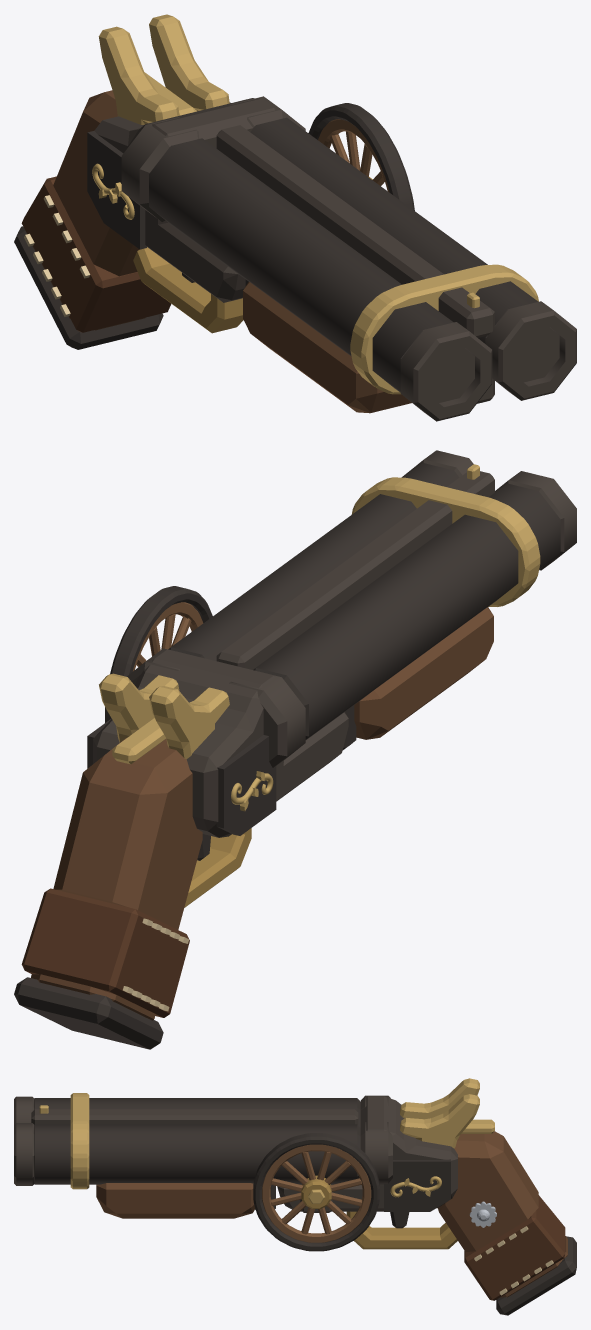
File: w_sawnoff@sawnoff_dust.glb
3 renders of one model, top to bottom at view 1: azimuth 30°, elevation 25°; view 2: azimuth 150°, elevation 25°; view 3: azimuth 270°, elevation 25°, orthographic. The views are drawn at different scales.
Parts seen in each view (by area): view 1: hinge_wzB__metal__p3b3531, hinge_trim_wzN__metal2__p4a423c, body_wzA__metal2__p4a423c, hinge_wzB__metal2__p4a423c, grip_wzN__wrap__p5a3a26, forend_wzA__wood__p6b4a32, grip_wzA__wood__p6b4a32, hinge_wzN__brass2__pc4a463, hammerR_wzN__brass2__pc4a463, body_wzN__brass__pa8874a, hammerL_wzN__brass2__pc4a463, body_wzN__metal__p3b3531 (+5 smaller); view 2: hinge_wzB__metal__p3b3531, grip_wzA__wood__p6b4a32, body_wzA__metal2__p4a423c, grip_wzN__wrap__p5a3a26, hinge_wzB__metal2__p4a423c, forend_wzA__wood__p6b4a32, hinge_wzN__brass2__pc4a463, grip_wzN__metal__p3b3531, body_wzN__metal__p3b3531, hammerR_wzN__brass2__pc4a463, body_wzB__metal__p3b3531, hinge_trim_wzN__metal2__p4a423c (+4 smaller); view 3: hinge_wzB__metal__p3b3531, grip_wzA__wood__p6b4a32, forend_wzA__wood__p6b4a32, body_wzN__wood2__p7d5a3d, body_wzA__metal2__p4a423c, grip_wzN__wrap__p5a3a26, hinge_wzB__metal2__p4a423c, body_wzB__metal__p3b3531, body_wzN__metal__p3b3531, body_wzN__brass__pa8874a, hammerL_wzN__brass2__pc4a463, hinge_wzN__brass2__pc4a463 (+6 smaller).
Part boxes in pixels (left/top/right/bottom): hinge_wzB__metal__p3b3531: left=149, top=117, right=538, bottom=392; hinge_trim_wzN__metal2__p4a423c: left=400, top=301, right=576, bottom=421; body_wzA__metal2__p4a423c: left=94, top=96, right=305, bottom=302; hinge_wzB__metal2__p4a423c: left=216, top=125, right=494, bottom=403; grip_wzN__wrap__p5a3a26: left=21, top=176, right=171, bottom=332; forend_wzA__wood__p6b4a32: left=243, top=282, right=411, bottom=413; grip_wzA__wood__p6b4a32: left=32, top=90, right=145, bottom=330; hinge_wzN__brass2__pc4a463: left=350, top=264, right=538, bottom=394; hammerR_wzN__brass2__pc4a463: left=98, top=26, right=179, bottom=124; body_wzN__brass__pa8874a: left=133, top=177, right=372, bottom=333; hammerL_wzN__brass2__pc4a463: left=149, top=14, right=229, bottom=111; body_wzN__metal__p3b3531: left=87, top=131, right=194, bottom=282; hinge_wzB__metal__p3b3531: left=168, top=463, right=560, bottom=739; grip_wzA__wood__p6b4a32: left=31, top=738, right=202, bottom=1020; body_wzA__metal2__p4a423c: left=93, top=648, right=348, bottom=837; grip_wzN__wrap__p5a3a26: left=21, top=888, right=189, bottom=1017; hinge_wzB__metal2__p4a423c: left=216, top=471, right=494, bottom=669; forend_wzA__wood__p6b4a32: left=354, top=607, right=493, bottom=739; hinge_wzN__brass2__pc4a463: left=351, top=477, right=540, bottom=606; grip_wzN__metal__p3b3531: left=14, top=977, right=163, bottom=1049; body_wzN__metal__p3b3531: left=87, top=718, right=276, bottom=860; hammerR_wzN__brass2__pc4a463: left=149, top=686, right=229, bottom=759; body_wzB__metal__p3b3531: left=105, top=586, right=212, bottom=722; hinge_trim_wzN__metal2__p4a423c: left=401, top=450, right=576, bottom=570; hinge_wzB__metal__p3b3531: left=34, top=1098, right=360, bottom=1184; grip_wzA__wood__p6b4a32: left=438, top=1131, right=567, bottom=1297; forend_wzA__wood__p6b4a32: left=96, top=1183, right=255, bottom=1218; body_wzN__wood2__p7d5a3d: left=262, top=1144, right=371, bottom=1242; body_wzA__metal2__p4a423c: left=277, top=1095, right=457, bottom=1212; grip_wzN__wrap__p5a3a26: left=464, top=1195, right=565, bottom=1300; hinge_wzB__metal2__p4a423c: left=31, top=1109, right=358, bottom=1124; body_wzB__metal__p3b3531: left=253, top=1133, right=379, bottom=1251; body_wzN__metal__p3b3531: left=384, top=1159, right=450, bottom=1228; body_wzN__brass__pa8874a: left=301, top=1175, right=457, bottom=1249; hammerL_wzN__brass2__pc4a463: left=400, top=1094, right=479, bottom=1148; hinge_wzN__brass2__pc4a463: left=70, top=1093, right=89, bottom=1189.
Bounding box in the file's own units: 0.1319 × 0.2046 × 0.4856.
